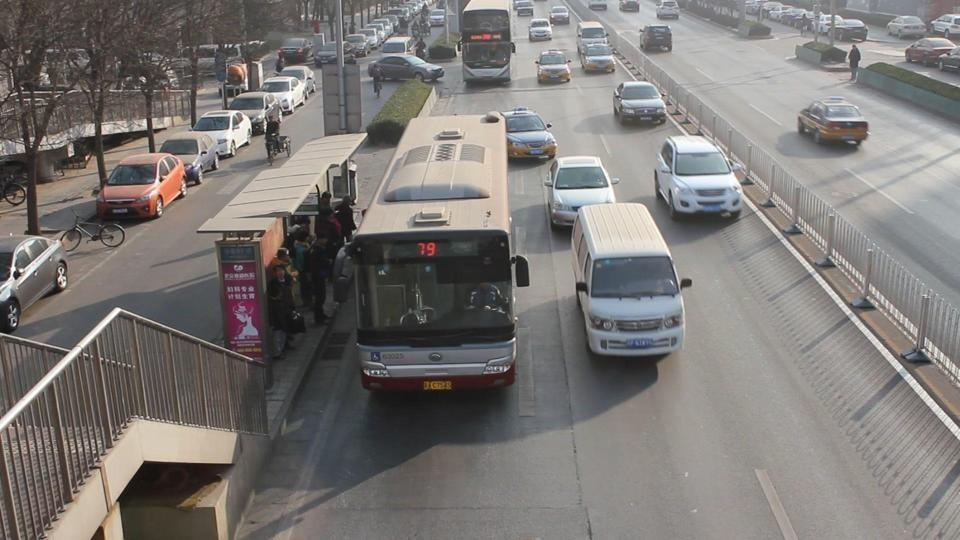car: (570, 202, 691, 359), (653, 135, 745, 221), (0, 234, 70, 331), (95, 152, 187, 222), (542, 155, 620, 229), (796, 98, 869, 146), (1, 138, 69, 188), (156, 132, 221, 184), (191, 111, 253, 156), (503, 109, 557, 160), (611, 80, 668, 126), (239, 80, 297, 125), (368, 54, 445, 85), (228, 93, 281, 135), (260, 76, 303, 115), (904, 37, 957, 66), (279, 66, 317, 100), (535, 51, 573, 85), (576, 20, 610, 56), (579, 40, 615, 74), (639, 23, 673, 54), (886, 15, 928, 40), (928, 14, 960, 38), (528, 19, 554, 42), (938, 49, 960, 72)
